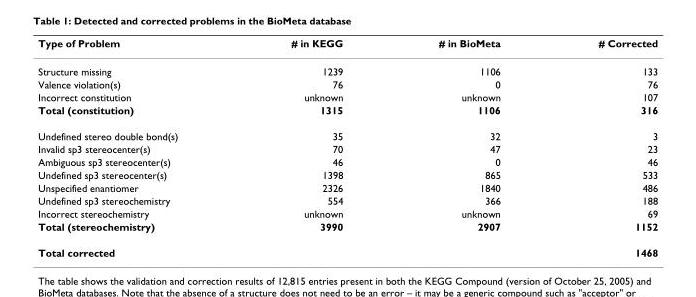table: (37, 36, 657, 258)
table column: (37, 36, 233, 258), (390, 36, 548, 258), (233, 36, 390, 258), (548, 36, 657, 258)
table column header: (37, 36, 657, 56)
table row: (37, 56, 657, 77), (37, 36, 657, 56), (37, 122, 657, 142), (37, 219, 657, 239), (37, 103, 657, 122), (37, 239, 657, 258), (37, 77, 657, 90), (37, 90, 657, 103), (37, 142, 657, 155), (37, 155, 657, 168), (37, 180, 657, 193), (37, 193, 657, 206), (37, 206, 657, 219), (37, 168, 657, 180)
